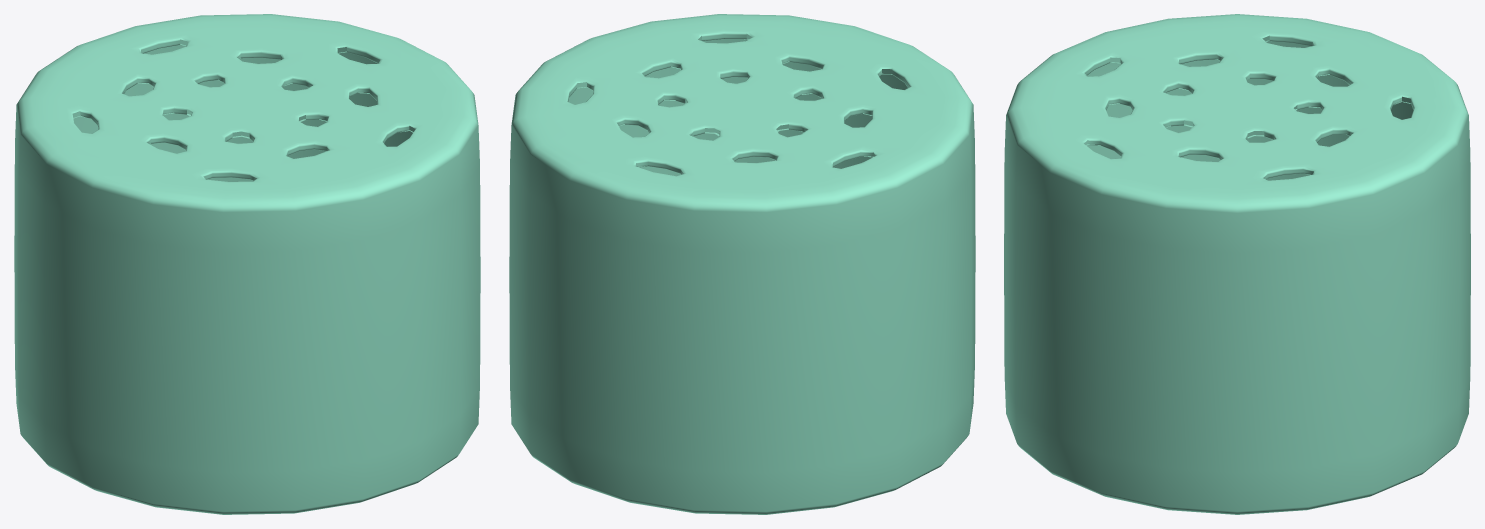
Rendered from uploads_files_1923420_Salt+Shakers_Cap2.FBX.
The picture shows the model from 3 angles, left to right: view 1: azimuth 30°, elevation 25°; view 2: azimuth 150°, elevation 25°; view 3: azimuth 270°, elevation 25°; orthographic projection.
Visible parts, largest first — view 1: uploads_files_1923420_Salt+Shakers_Cap2; view 2: uploads_files_1923420_Salt+Shakers_Cap2; view 3: uploads_files_1923420_Salt+Shakers_Cap2.
Boxes of the visible parts, box(x1,y1,x2,y2) form: uploads_files_1923420_Salt+Shakers_Cap2: box(14, 14, 480, 514); uploads_files_1923420_Salt+Shakers_Cap2: box(509, 14, 975, 514); uploads_files_1923420_Salt+Shakers_Cap2: box(1004, 14, 1470, 514).
Size of what is drawn, in the model's own units: 1.28 by 1.28 by 0.9527.
